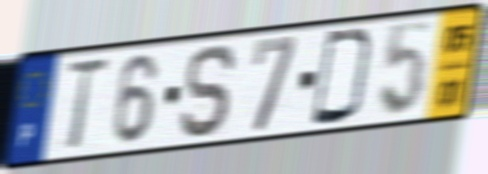5: (379, 17, 434, 121)
6: (111, 51, 162, 147)
7: (249, 31, 301, 136)
D: (308, 26, 377, 128)
S: (177, 41, 240, 141)
T: (62, 54, 112, 155)
